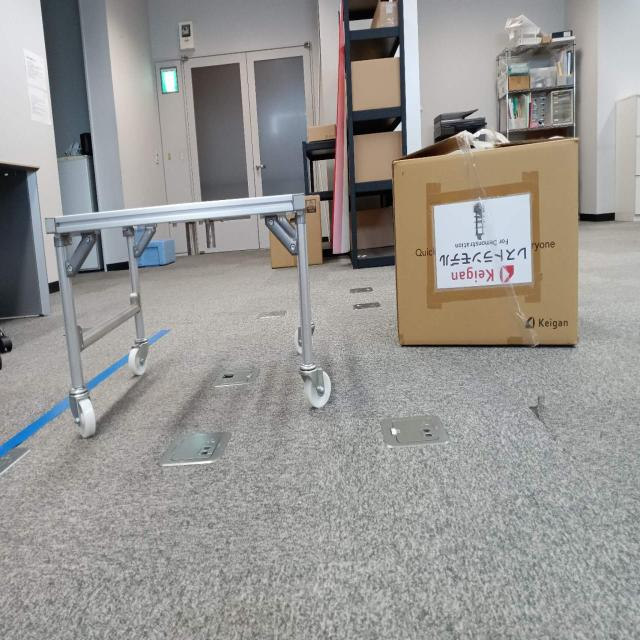box: (396, 139, 582, 347)
door: (52, 189, 304, 278)
